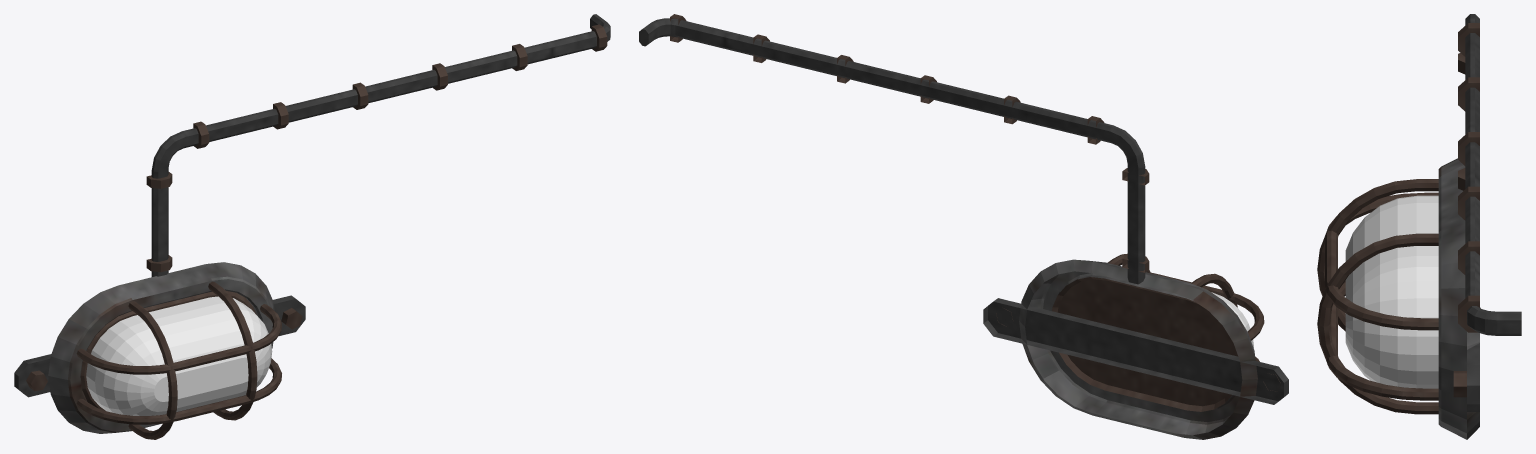
Rendered from lamp_1.fbx.
3 renders of one model, left to right at view 1: azimuth 30°, elevation 25°; view 2: azimuth 150°, elevation 25°; view 3: azimuth 270°, elevation 25°, orthographic. The views are drawn at different scales.
Visible parts, largest first — view 1: lamp_1; view 2: lamp_1; view 3: lamp_1.
Part boxes in pixels (x1=…): lamp_1: x1=14, y1=14, x2=610, y2=439; lamp_1: x1=639, y1=14, x2=1288, y2=439; lamp_1: x1=1317, y1=14, x2=1521, y2=439.
Bounding box in the file's own units: 75.32 × 34.3 × 15.83.
